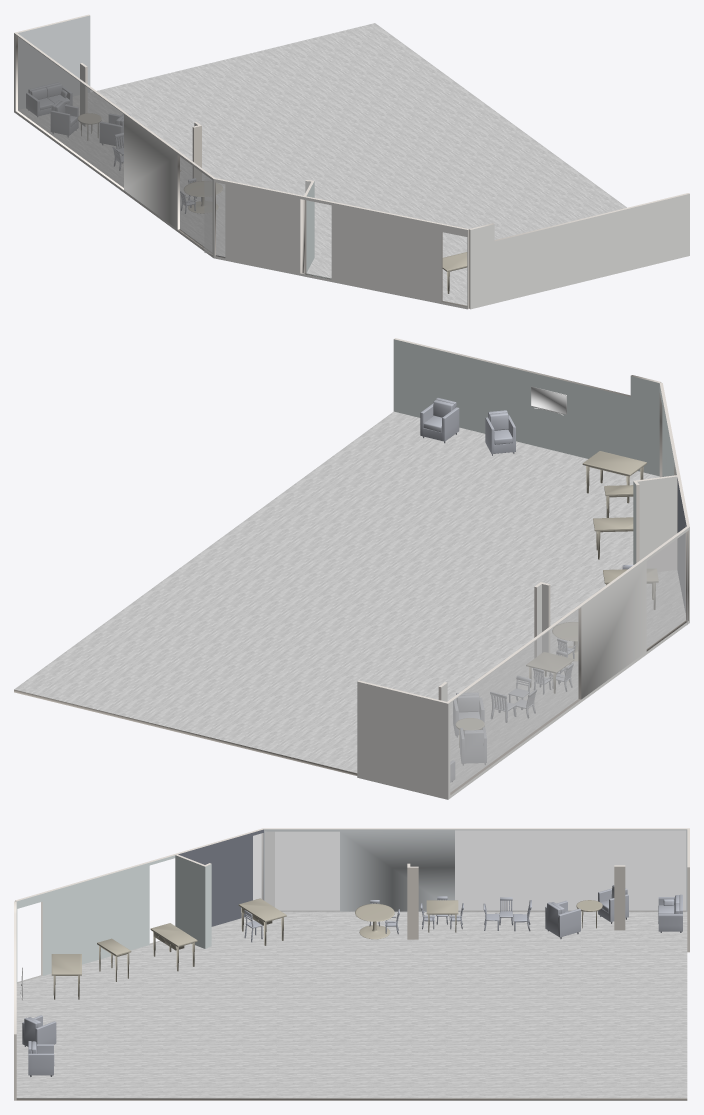
The model's file is 3rd floor, connects to toilet by stairs .fbx.
The picture shows the model from 3 angles, top to bottom: view 1: azimuth 30°, elevation 25°; view 2: azimuth 150°, elevation 25°; view 3: azimuth 270°, elevation 25°; orthographic projection. The views are drawn at different scales.
Parts seen in each view (by area): view 1: node_73465fe5_e060_4fe7_bc87_e4368c806e53_mesh0, node_c2ea0d8f_c6bf_4196_b207_e8bad53e446d_mesh0, node_a4787591_9d60_4b56_afdf_75a582572a37_mesh0, node_82c482be_79c0_43fd_b39e_383e1330e072_mesh0, node_e6fb5ce6_98eb_4105_89e7_b0bba6a31cfc_mesh0, node_4e3c83f6_0d04_4ab3_817a_e385cd093a21_mesh0, node_a351b2f7_e0c1_45fa_b148_0ea19947897b_mesh0, node_430a0e8c_b2f8_4a9b_b721_b50d9b04cf42_mesh0, node_8aeaad99_46ff_4ba3_83a2_e9fc20f60243_mesh0, node_1e1c1361_6408_4fed_a030_c1f8e2fc3dfe_mesh0, node_7f485d08_4f30_403d_83f7_be464b693554_mesh0, node_c9356041_dca0_4e31_a789_d24070897545_mesh0 (+9 smaller); view 2: node_73465fe5_e060_4fe7_bc87_e4368c806e53_mesh0, node_1a5daeee_b5ae_4ef6_a7f6_f683f7c9bdb5_mesh0, node_82c482be_79c0_43fd_b39e_383e1330e072_mesh0, node_e6fb5ce6_98eb_4105_89e7_b0bba6a31cfc_mesh0, node_345705d2_3ab8_42d8_95ee_34a75dd31dfa_mesh0, node_4e3c83f6_0d04_4ab3_817a_e385cd093a21_mesh0, node_430a0e8c_b2f8_4a9b_b721_b50d9b04cf42_mesh0, node_8aeaad99_46ff_4ba3_83a2_e9fc20f60243_mesh0, node_5a2c7756_6fd2_468f_b4b4_05d30ad66a06_mesh0, node_193bda18_c009_4695_99ef_29c7186cf83e_mesh0, node_183e35f8_66c0_48c3_b5d3_4d6436ffde3c_mesh0, node_4f9649a6_8413_40b5_b0e9_6c61b35a9634_mesh0 (+8 smaller); view 3: node_73465fe5_e060_4fe7_bc87_e4368c806e53_mesh0, node_82c482be_79c0_43fd_b39e_383e1330e072_mesh0, node_e6fb5ce6_98eb_4105_89e7_b0bba6a31cfc_mesh0, node_ab887be5_de38_4297_8dd8_433e8244edf3_mesh0, node_676e4ea5_7bf2_490e_9c3d_9aaeb44b682c_mesh0, node_430a0e8c_b2f8_4a9b_b721_b50d9b04cf42_mesh0, node_8aeaad99_46ff_4ba3_83a2_e9fc20f60243_mesh0, node_30a71be1_7f34_440f_a9ae_25aa8f235b97_mesh0, node_fa9b571a_c587_4d32_8739_e51b575f41c5_mesh0, node_183e35f8_66c0_48c3_b5d3_4d6436ffde3c_mesh0, node_b6ffada6_be92_4c40_9e64_0eaccd997692_mesh0, node_ee9d8685_1785_4ab7_9c5c_d6b7e74e2706_mesh0 (+16 smaller).
Part boxes in pixels (x1,y1,x2,y2): node_73465fe5_e060_4fe7_bc87_e4368c806e53_mesh0: (18, 23, 626, 305); node_c2ea0d8f_c6bf_4196_b207_e8bad53e446d_mesh0: (213, 179, 467, 309); node_a4787591_9d60_4b56_afdf_75a582572a37_mesh0: (470, 194, 689, 309); node_82c482be_79c0_43fd_b39e_383e1330e072_mesh0: (18, 37, 123, 187); node_e6fb5ce6_98eb_4105_89e7_b0bba6a31cfc_mesh0: (18, 37, 123, 187); node_4e3c83f6_0d04_4ab3_817a_e385cd093a21_mesh0: (14, 33, 213, 257); node_a351b2f7_e0c1_45fa_b148_0ea19947897b_mesh0: (18, 15, 90, 109); node_430a0e8c_b2f8_4a9b_b721_b50d9b04cf42_mesh0: (180, 157, 211, 246); node_8aeaad99_46ff_4ba3_83a2_e9fc20f60243_mesh0: (180, 157, 210, 245); node_1e1c1361_6408_4fed_a030_c1f8e2fc3dfe_mesh0: (204, 179, 224, 256); node_7f485d08_4f30_403d_83f7_be464b693554_mesh0: (204, 179, 224, 256); node_c9356041_dca0_4e31_a789_d24070897545_mesh0: (26, 82, 72, 116); node_73465fe5_e060_4fe7_bc87_e4368c806e53_mesh0: (14, 411, 685, 791); node_1a5daeee_b5ae_4ef6_a7f6_f683f7c9bdb5_mesh0: (393, 339, 659, 476); node_82c482be_79c0_43fd_b39e_383e1330e072_mesh0: (450, 610, 578, 791); node_e6fb5ce6_98eb_4105_89e7_b0bba6a31cfc_mesh0: (450, 610, 578, 791); node_345705d2_3ab8_42d8_95ee_34a75dd31dfa_mesh0: (357, 681, 448, 799); node_4e3c83f6_0d04_4ab3_817a_e385cd093a21_mesh0: (448, 527, 689, 799); node_430a0e8c_b2f8_4a9b_b721_b50d9b04cf42_mesh0: (647, 533, 685, 648); node_8aeaad99_46ff_4ba3_83a2_e9fc20f60243_mesh0: (647, 533, 685, 647); node_5a2c7756_6fd2_468f_b4b4_05d30ad66a06_mesh0: (637, 476, 677, 571); node_193bda18_c009_4695_99ef_29c7186cf83e_mesh0: (420, 398, 459, 443); node_183e35f8_66c0_48c3_b5d3_4d6436ffde3c_mesh0: (14, 620, 686, 775); node_4f9649a6_8413_40b5_b0e9_6c61b35a9634_mesh0: (485, 410, 515, 455); node_73465fe5_e060_4fe7_bc87_e4368c806e53_mesh0: (16, 911, 687, 1098); node_82c482be_79c0_43fd_b39e_383e1330e072_mesh0: (455, 830, 685, 911); node_e6fb5ce6_98eb_4105_89e7_b0bba6a31cfc_mesh0: (455, 830, 685, 911); node_ab887be5_de38_4297_8dd8_433e8244edf3_mesh0: (264, 829, 687, 911); node_676e4ea5_7bf2_490e_9c3d_9aaeb44b682c_mesh0: (16, 855, 175, 983); node_430a0e8c_b2f8_4a9b_b721_b50d9b04cf42_mesh0: (265, 832, 339, 911); node_8aeaad99_46ff_4ba3_83a2_e9fc20f60243_mesh0: (265, 832, 339, 911); node_30a71be1_7f34_440f_a9ae_25aa8f235b97_mesh0: (178, 829, 263, 926); node_fa9b571a_c587_4d32_8739_e51b575f41c5_mesh0: (175, 855, 205, 948); node_183e35f8_66c0_48c3_b5d3_4d6436ffde3c_mesh0: (16, 1098, 687, 1100); node_b6ffada6_be92_4c40_9e64_0eaccd997692_mesh0: (545, 900, 580, 939); node_ee9d8685_1785_4ab7_9c5c_d6b7e74e2706_mesh0: (355, 903, 394, 939).
Size of the model in its own units: 1595 by 333 by 2403.
Materials: 13 (1 with a texture image).
